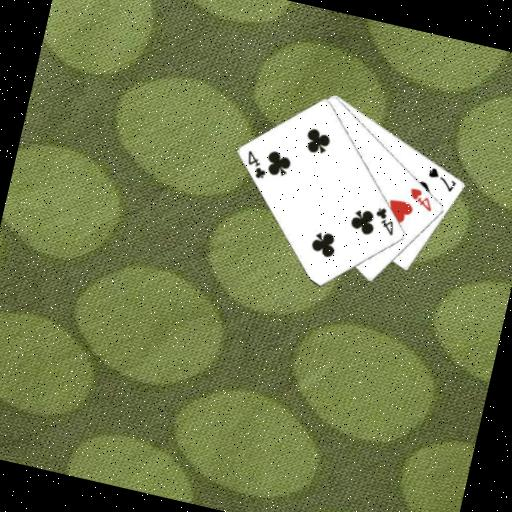4C: (368, 203, 401, 238), (240, 147, 272, 182)
4H: (404, 184, 438, 214)
7S: (422, 163, 461, 195)
